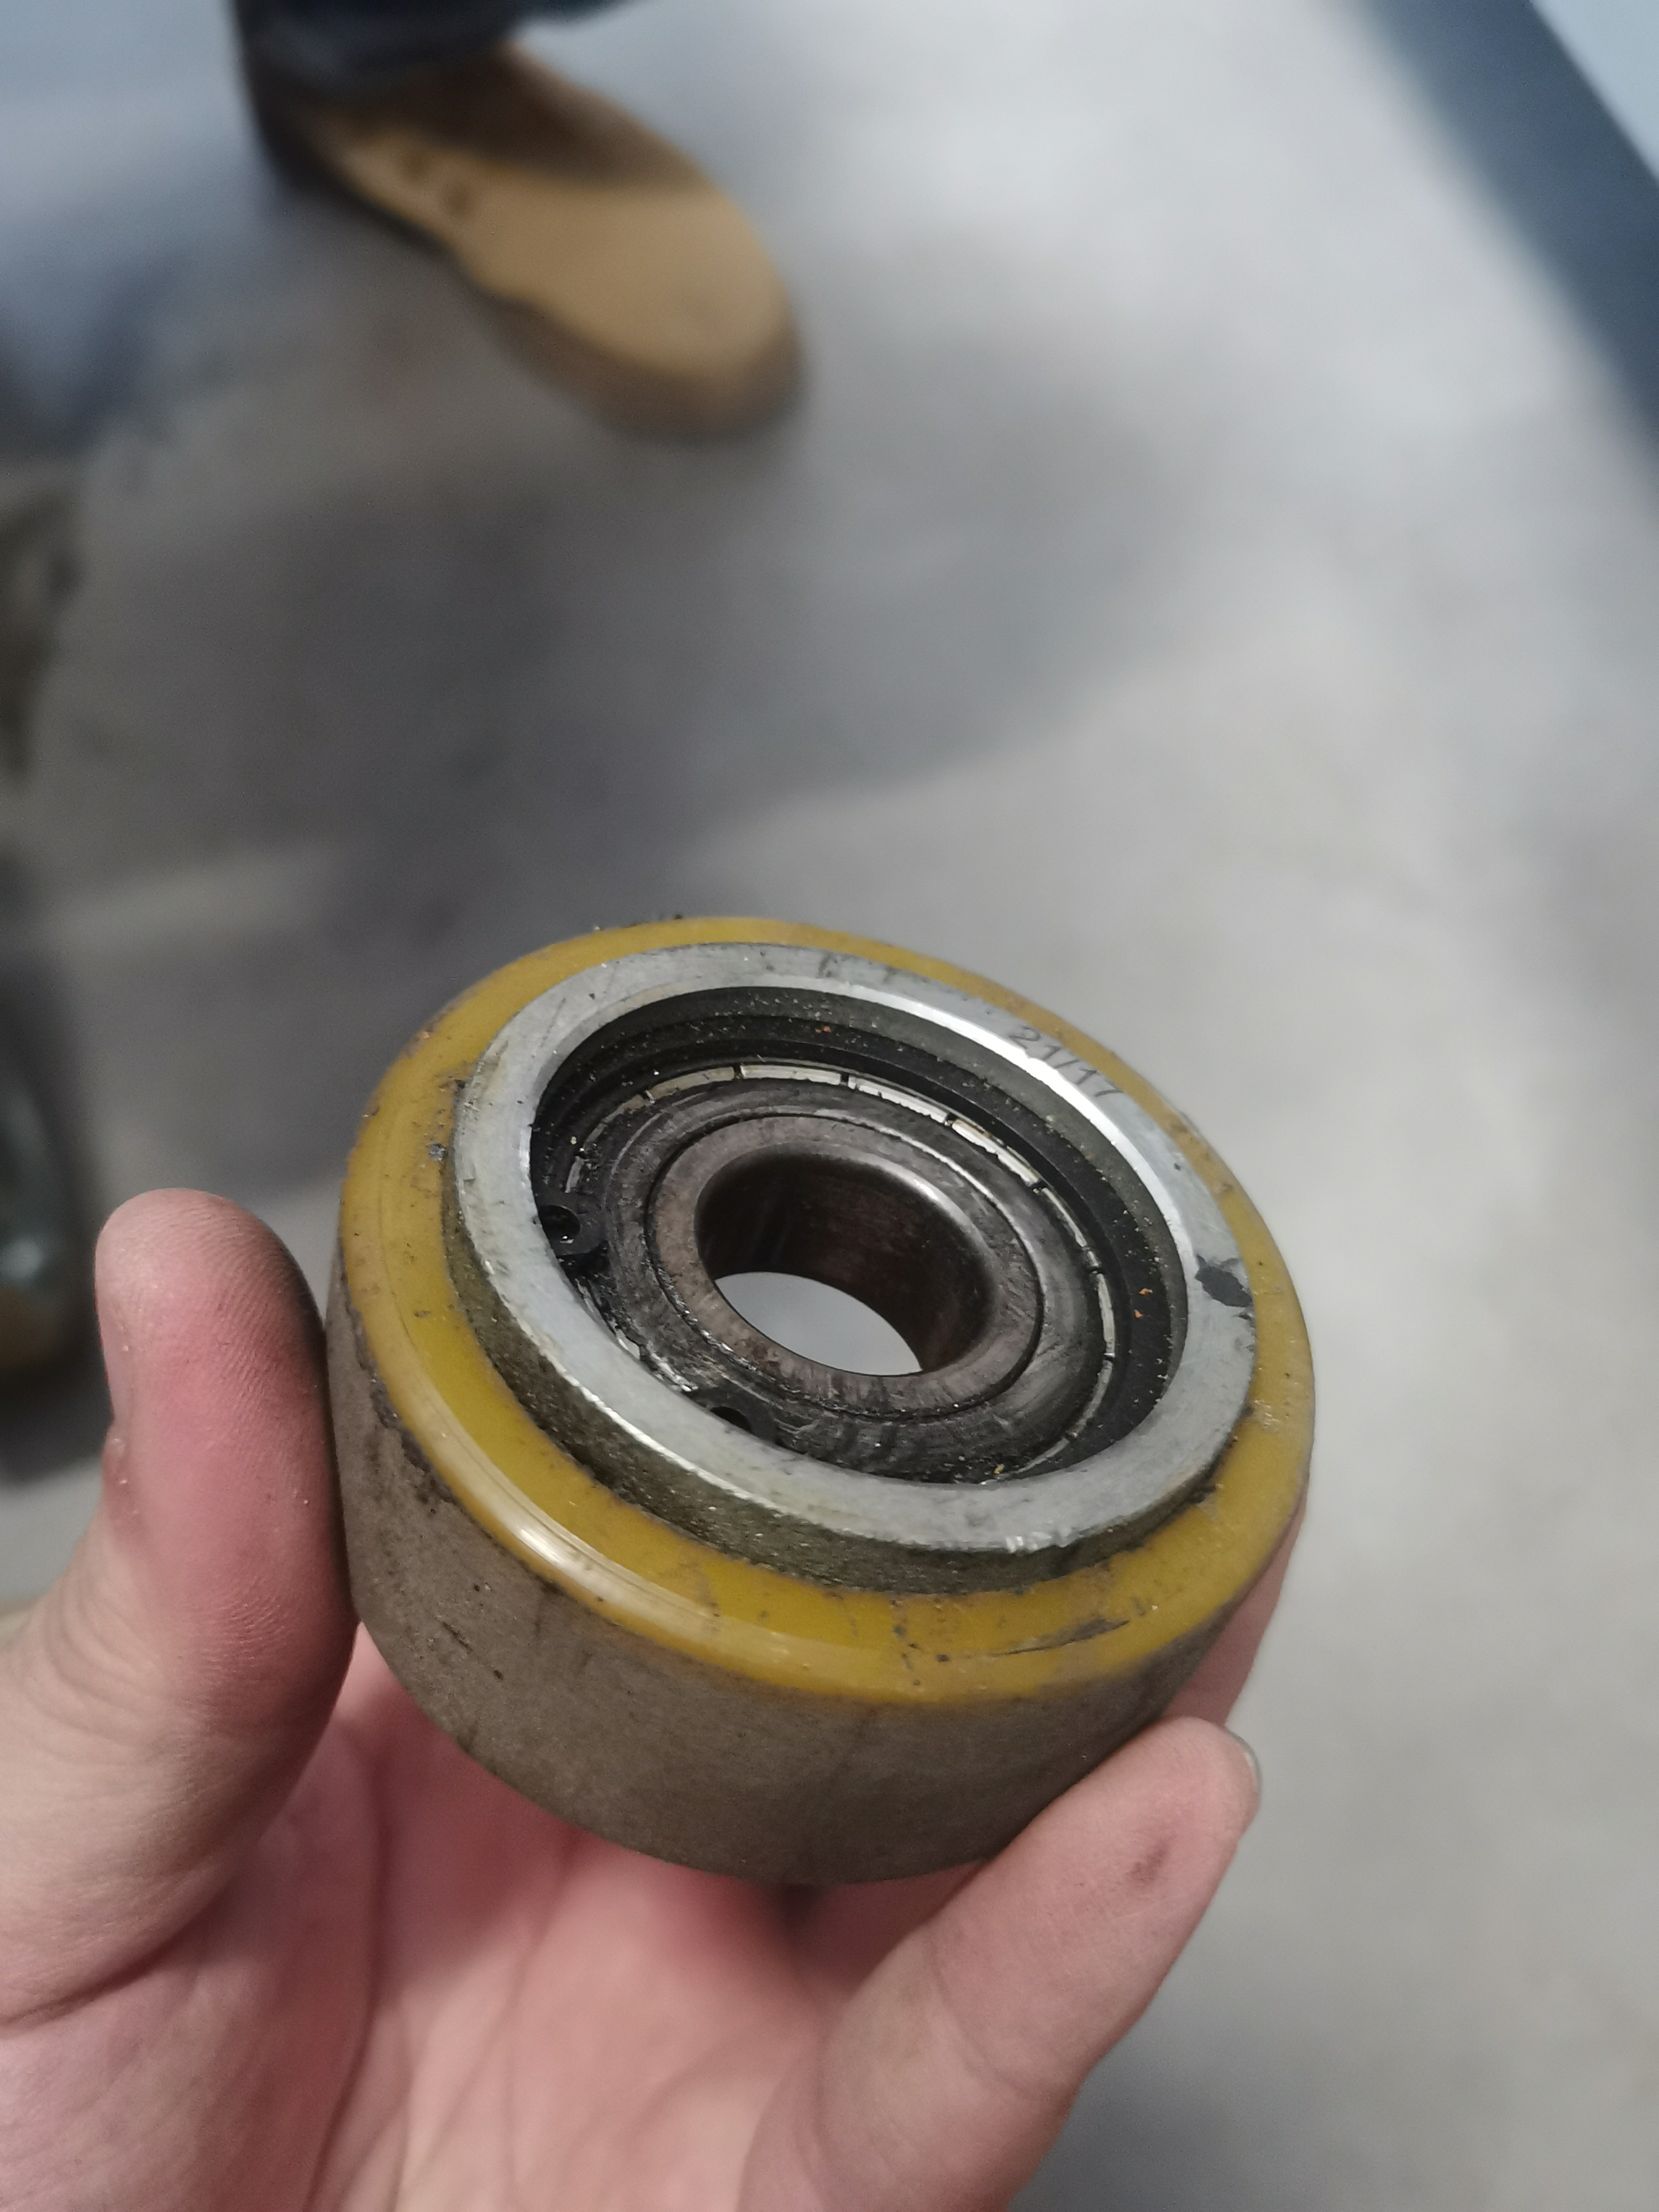bad_wheel: (342, 1108, 802, 1543), (887, 1426, 1291, 1634)
